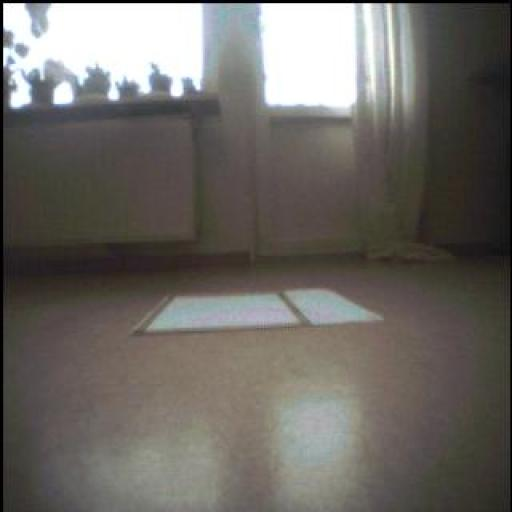Pad: (128, 288, 363, 339)
